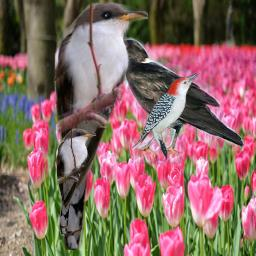Crow: (105, 37, 244, 164)
Cuckoo: (52, 0, 148, 250), (55, 128, 96, 234)
Woodpecker: (132, 73, 200, 162)
